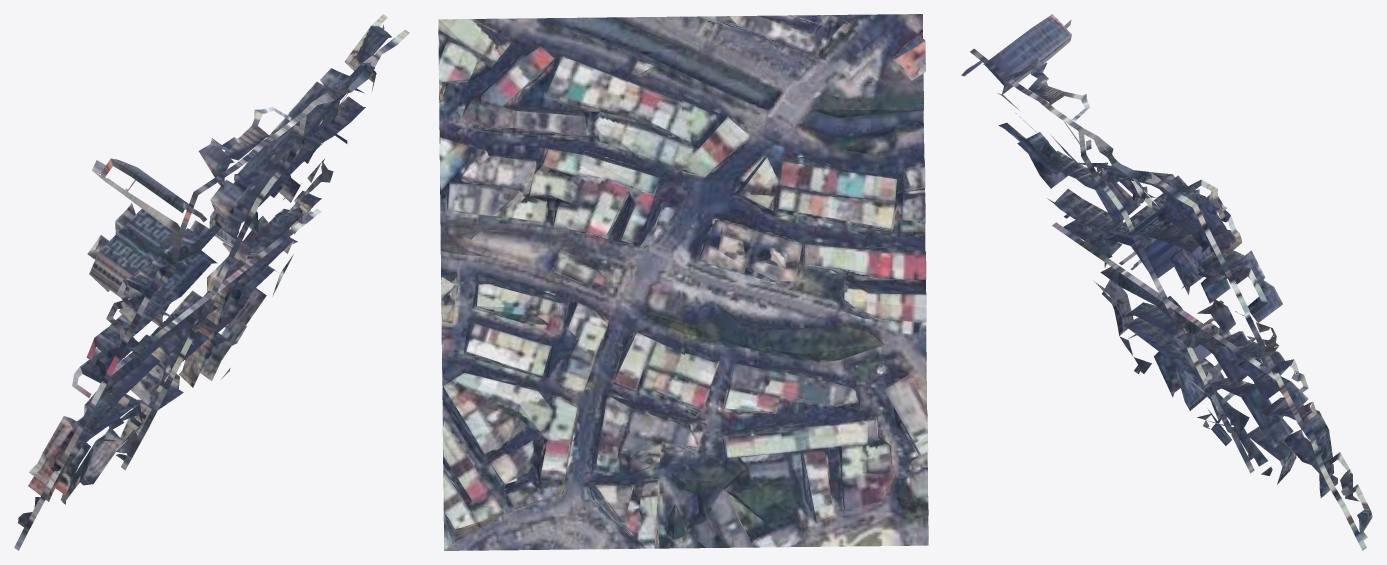
The picture shows the model from 3 angles, left to right: view 1: azimuth 30°, elevation 25°; view 2: azimuth 150°, elevation 25°; view 3: azimuth 270°, elevation 25°; orthographic projection. The views are drawn at different scales.
Bounding box in the file's own units: 306 × 288 × 266.
Materials: 1 (1 with a texture image).
